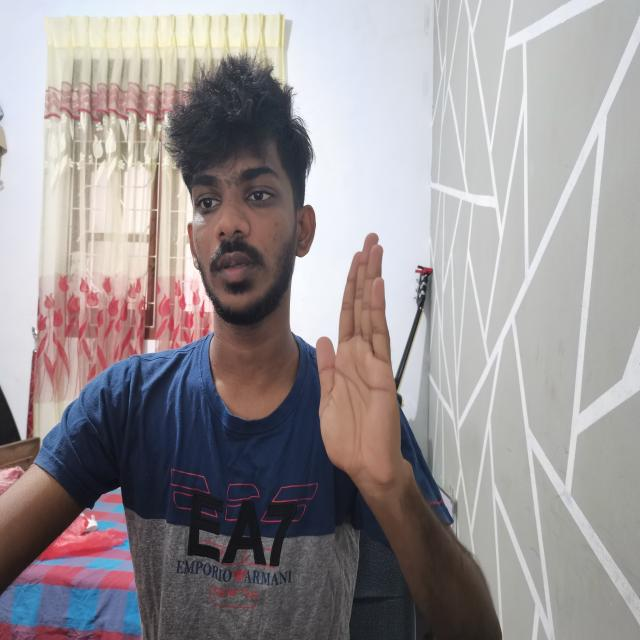Hello: (304, 217, 420, 498)
